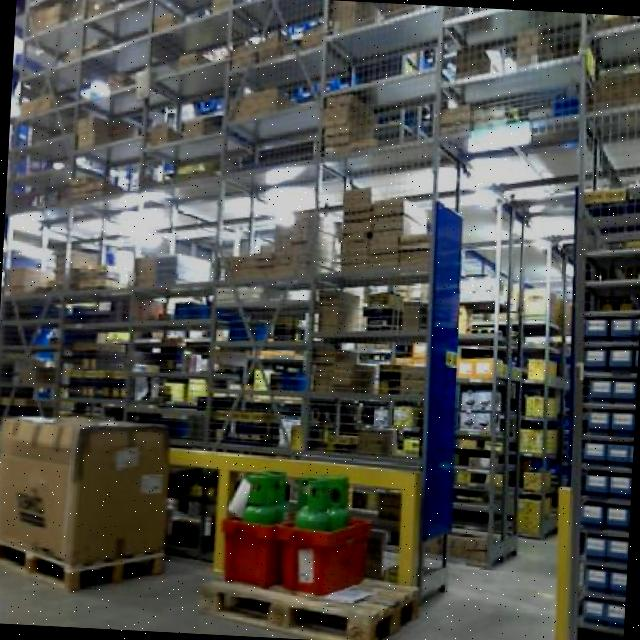pallet: (194, 558, 424, 640), (0, 523, 176, 596)
